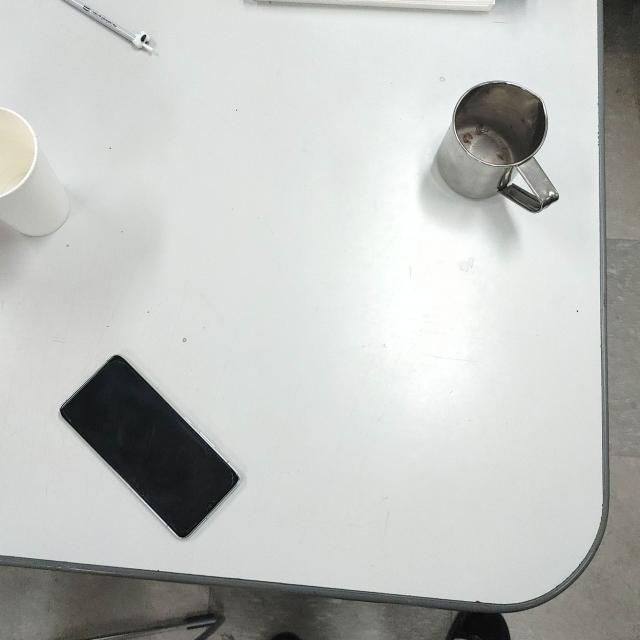cup: (434, 78, 562, 214)
phone: (50, 349, 249, 548)
